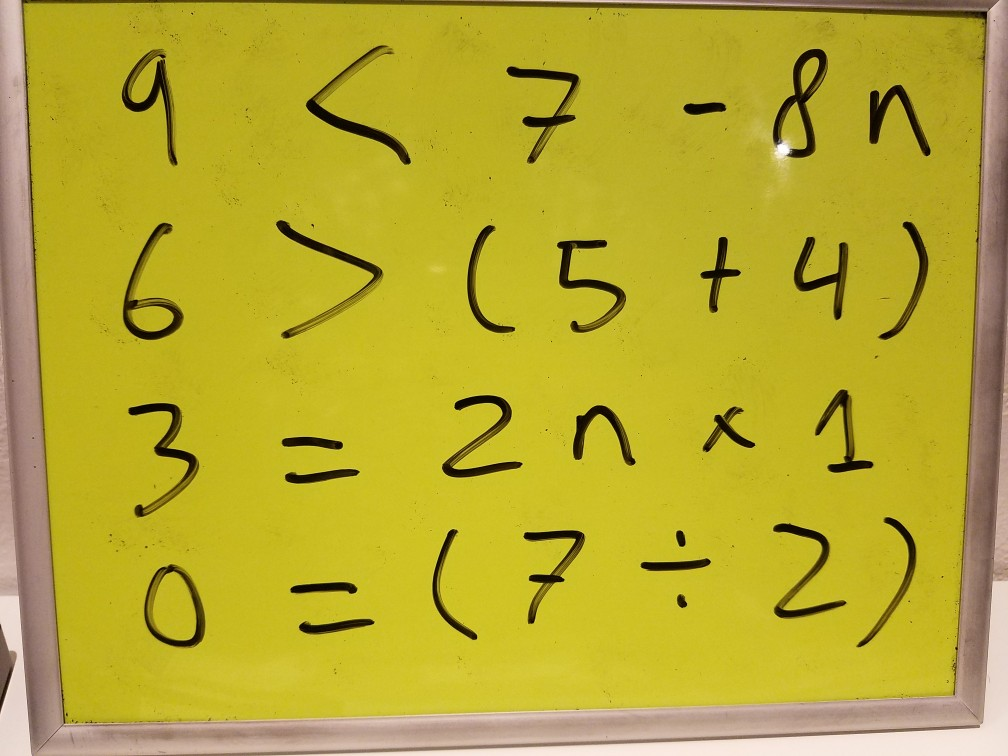(: (459, 215, 528, 351), (421, 516, 483, 653)
): (871, 204, 936, 350), (858, 504, 917, 656)
+: (679, 218, 746, 322)
-: (666, 76, 734, 128)
0: (133, 558, 213, 656)
1: (806, 383, 885, 480)
2: (764, 509, 850, 627), (434, 387, 529, 486)
3: (120, 394, 207, 528)
4: (774, 217, 857, 328)
5: (548, 220, 634, 345)
6: (105, 204, 187, 348)
7: (487, 42, 588, 174), (506, 516, 591, 632)
8: (760, 32, 836, 173)
9: (109, 39, 194, 168)
<: (288, 32, 423, 175)
=: (276, 558, 389, 651), (271, 422, 366, 489)
>: (250, 205, 398, 348)
div: (624, 516, 723, 613)
n: (853, 74, 940, 169), (562, 399, 642, 477)
x: (699, 397, 759, 460)
